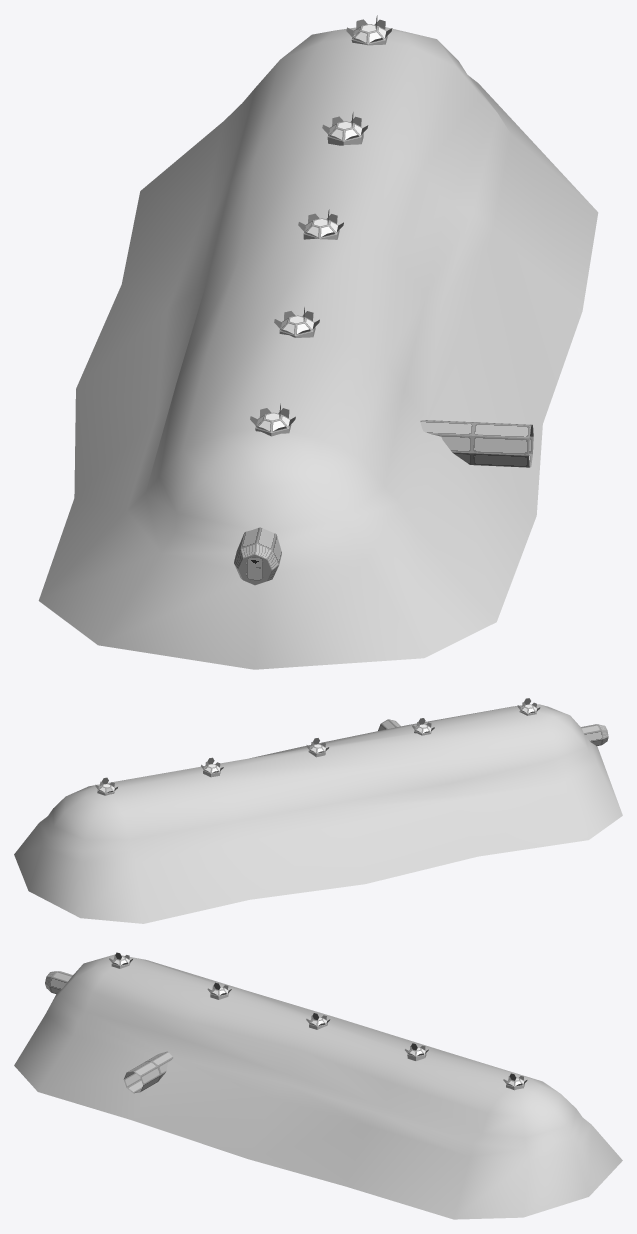
The model's file is LongHab.glb.
The picture shows the model from 3 angles, top to bottom: view 1: azimuth 30°, elevation 25°; view 2: azimuth 150°, elevation 25°; view 3: azimuth 270°, elevation 25°; orthographic projection. The views are drawn at different scales.
Parts seen in each view (by area): view 1: Hab.004; view 2: Hab.004; view 3: Hab.004.
Part boxes in pixels (x1=…): Hab.004: x1=38, y1=15, x2=598, y2=669; Hab.004: x1=14, y1=698, x2=622, y2=923; Hab.004: x1=14, y1=952, x2=622, y2=1219.
Bounding box in the file's own units: 67.62 × 15.85 × 81.5.
3 materials, 1 textured.
